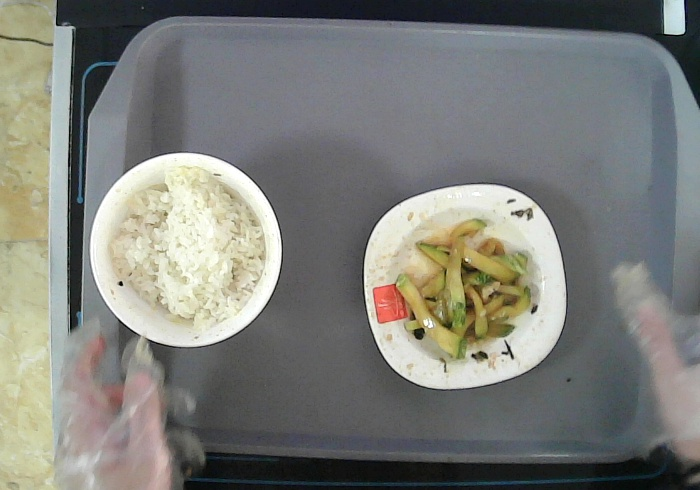SHKJ-Bai_Se_Si_Fang_Cai_Die: (360, 182, 570, 390)
SHKJ-Fan_Wan: (88, 148, 286, 351)
